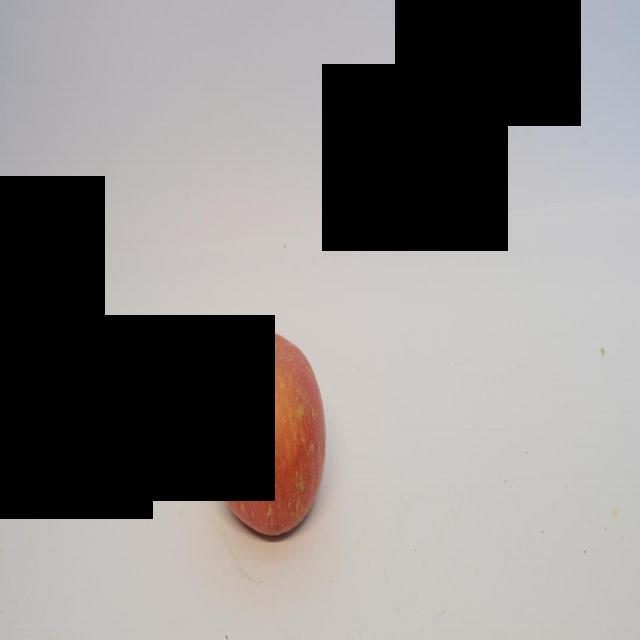apple: (207, 329, 327, 537)
